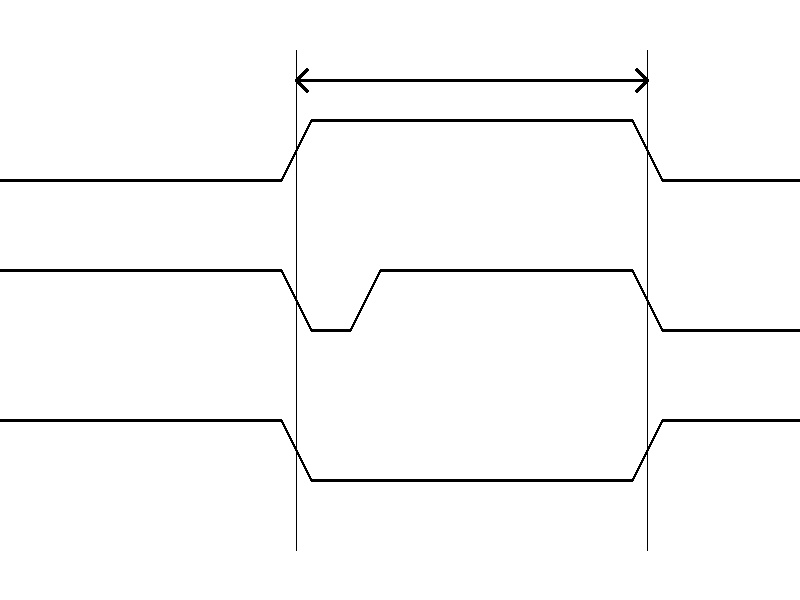double_arrow: (296, 65, 647, 95)
